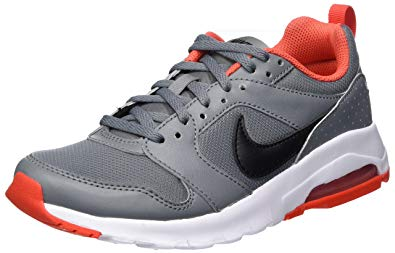nike: (232, 113, 307, 178)
